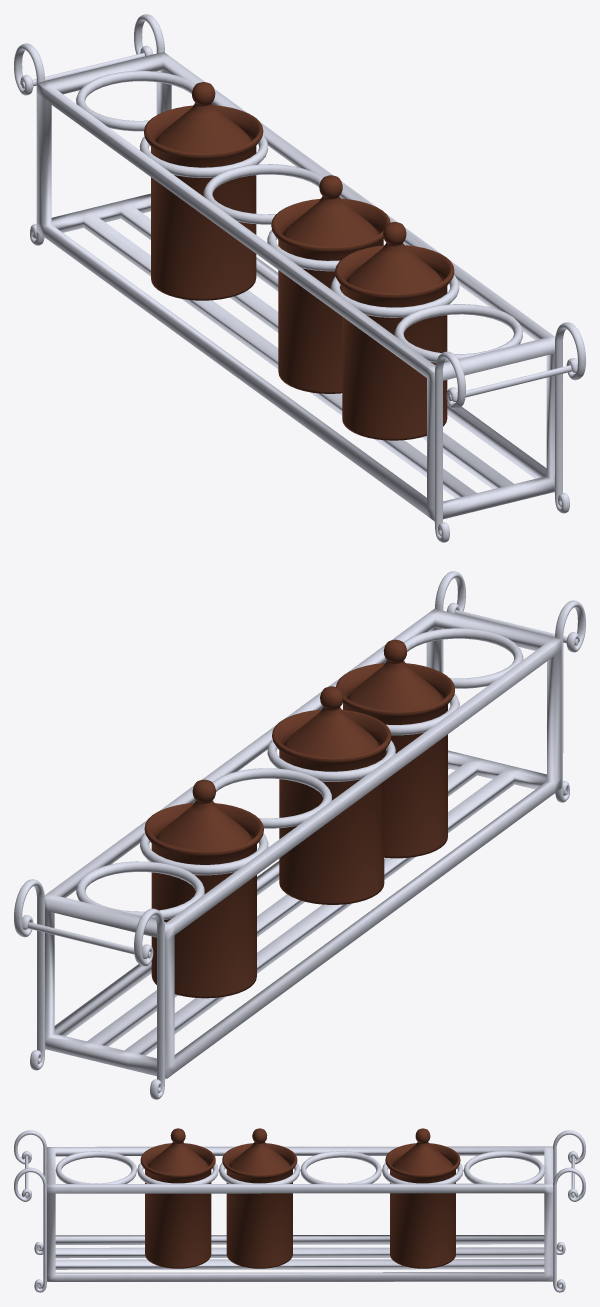
The model's file is aws_SeasoningBox_01_visual.DAE.
The picture shows the model from 3 angles, top to bottom: view 1: azimuth 30°, elevation 25°; view 2: azimuth 150°, elevation 25°; view 3: azimuth 270°, elevation 25°; orthographic projection. The views are drawn at different scales.
Visible parts, largest first — view 1: aws_SeasoningBox_01_visual; view 2: aws_SeasoningBox_01_visual; view 3: aws_SeasoningBox_01_visual.
Boxes of the visible parts, <box> form: aws_SeasoningBox_01_visual: <box>14,14,585,542</box>; aws_SeasoningBox_01_visual: <box>14,571,585,1099</box>; aws_SeasoningBox_01_visual: <box>14,1128,585,1292</box>.
Size of the model in its own units: 4.91 by 29.29 by 8.14.
Materials: 1 (1 with a texture image).
